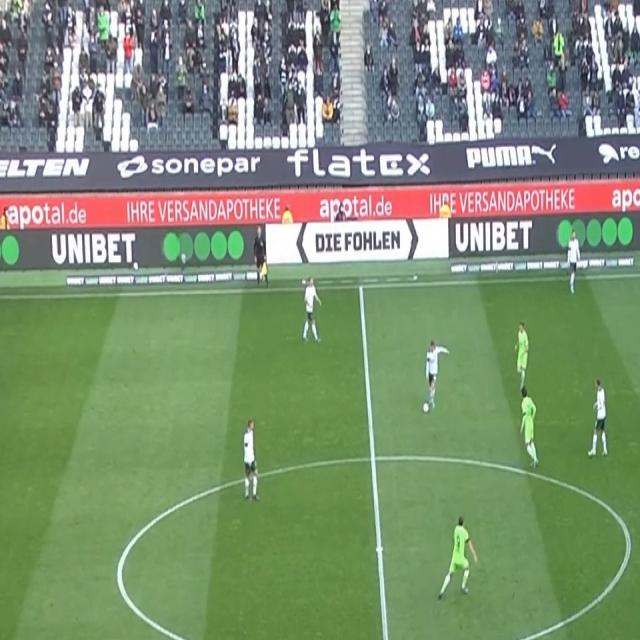ball: (422, 402, 430, 416)
